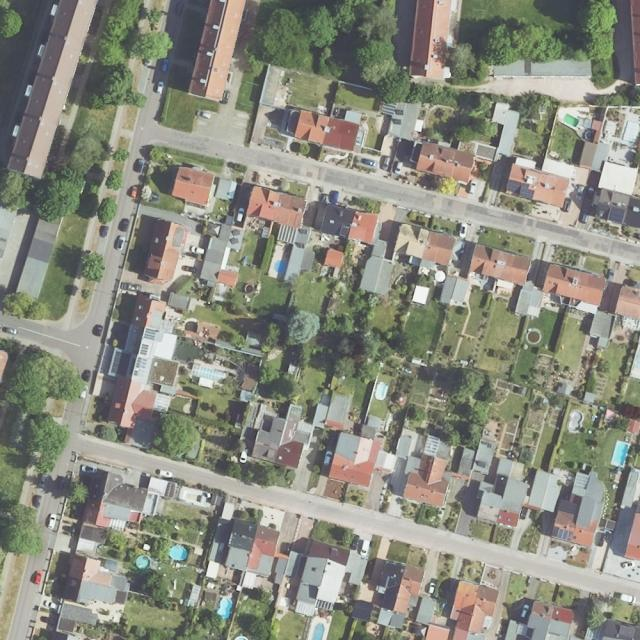PV: (507, 180, 534, 200), (133, 343, 148, 377), (586, 622, 605, 640), (552, 527, 572, 541), (609, 207, 625, 223), (143, 328, 157, 340), (396, 109, 403, 116), (393, 119, 401, 125), (297, 243, 304, 248), (300, 230, 307, 234)
